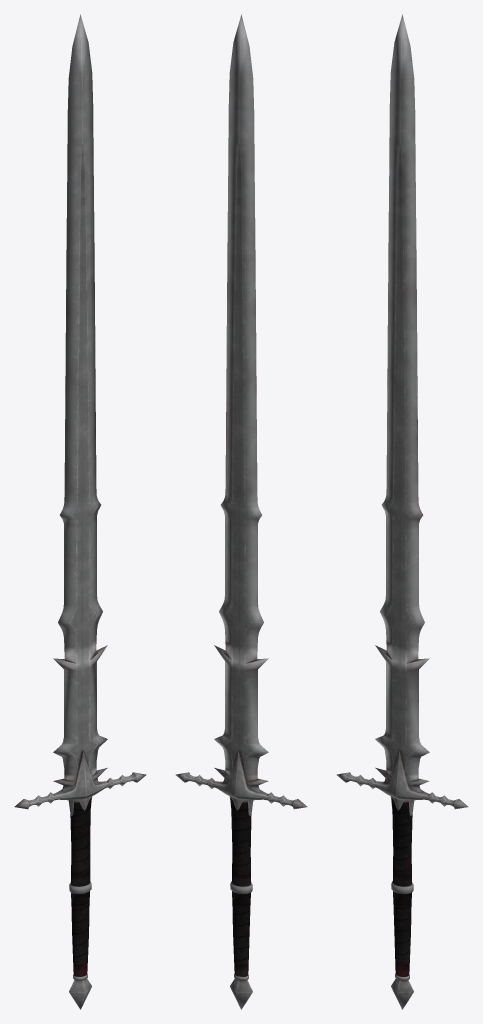
File: uploads_files_2118056_NazgulGreatsword.fbx
3 views of the same model, side by side, from view 1: azimuth 30°, elevation 25°; view 2: azimuth 150°, elevation 25°; view 3: azimuth 330°, elevation 25° (orthographic).
Parts seen in each view (by area): view 1: NazgulGreatsword; view 2: NazgulGreatsword; view 3: NazgulGreatsword.
Part boxes in pixels (left/top/right/bottom): NazgulGreatsword: left=14, top=14, right=146, bottom=1009; NazgulGreatsword: left=175, top=14, right=307, bottom=1009; NazgulGreatsword: left=336, top=14, right=468, bottom=1009.
Size of the model in its own units: 25.2 by 181 by 4.05.
